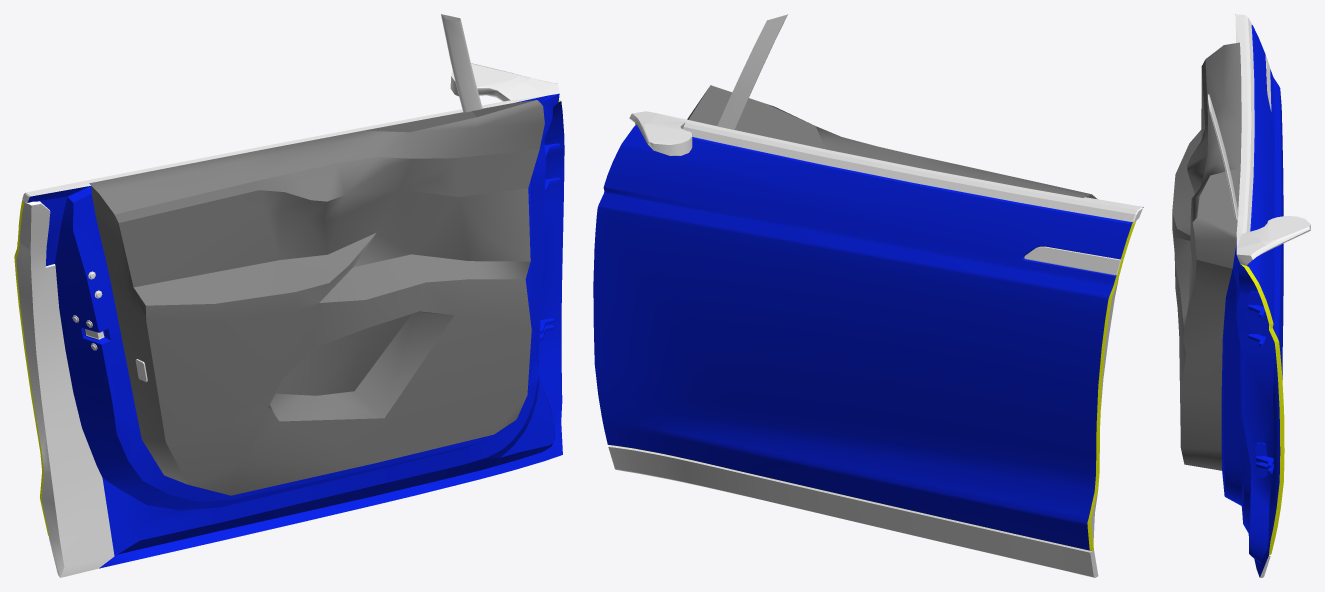
File: Door_LF.obj
The picture shows the model from 3 angles, left to right: view 1: azimuth 30°, elevation 25°; view 2: azimuth 150°, elevation 25°; view 3: azimuth 270°, elevation 25°; orthographic projection. The views are drawn at different scales.
Visible parts, largest first — view 1: Door_LF; view 2: Door_LF; view 3: Door_LF.
Boxes of the visible parts, bbox=[...] form: Door_LF: bbox=[14, 14, 564, 577]; Door_LF: bbox=[593, 14, 1143, 577]; Door_LF: bbox=[1172, 14, 1310, 577].
Bounding box in the file's own units: 1.27 × 1.08 × 0.3224.
